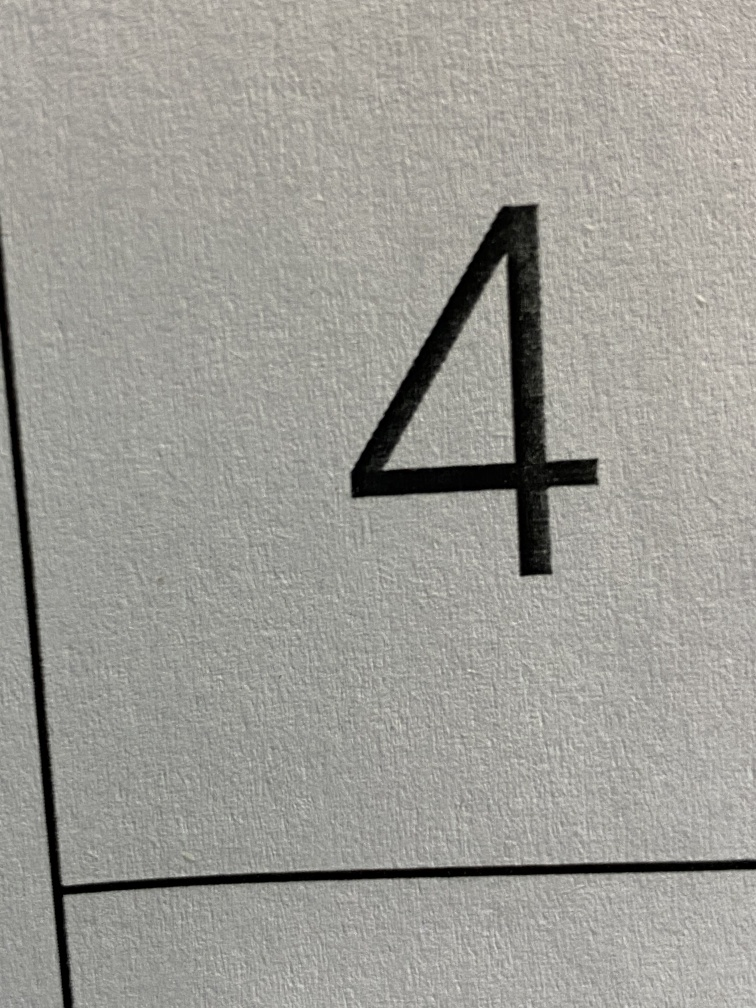four: (323, 156, 660, 633)
